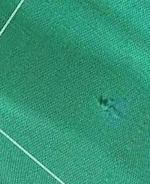knot: (93, 93, 119, 119)
